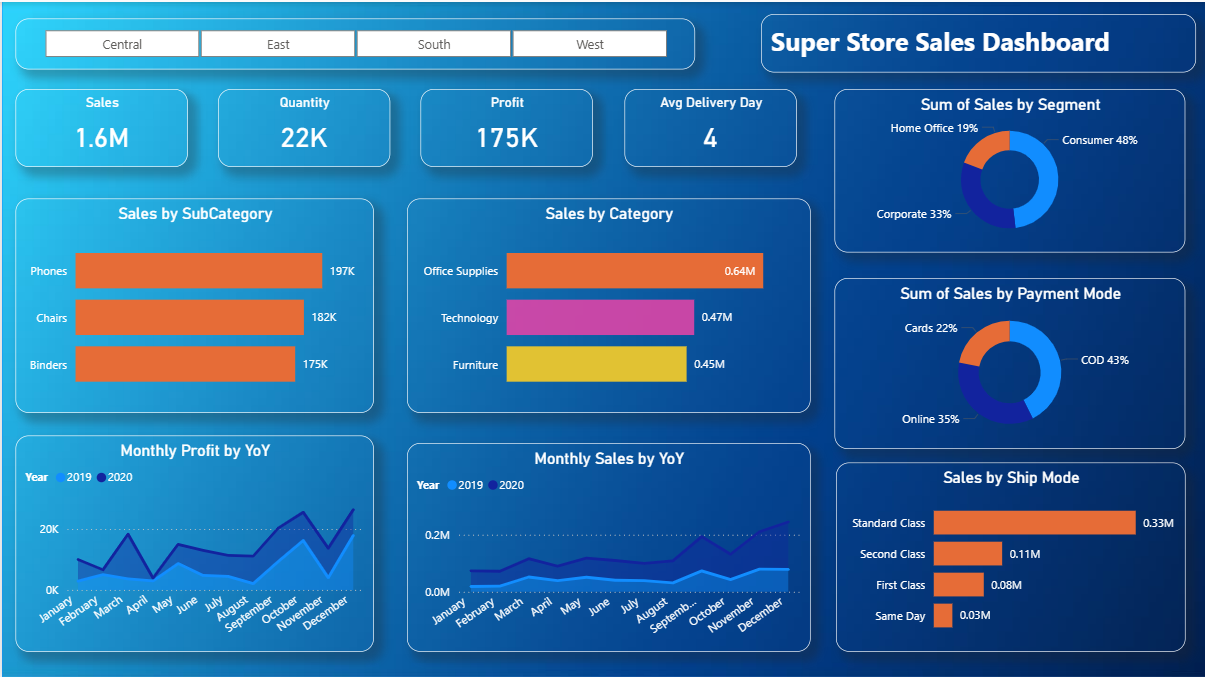

Layout of this report page (visuals, bound fields, positions):
{"tool":"powerbi","page":{"name":"Page 1","canvas":[1280,720],"ordinal":0},"visuals":[{"type":"clusteredBarChart","title":"Sales by Category","fields":{"Y":["Sum(Sales_data.Sales)"],"Category":["Sales_data.Category"]},"box":[429.5,208.4,427.9,227.5],"z":0},{"type":"clusteredBarChart","title":"Sales by SubCategory","fields":{"Y":["Sum(Sales_data.Sales)"],"Category":["Sales_data.Sub-Category"]},"box":[14.3,208.4,380.2,227.5],"z":1000},{"type":"clusteredBarChart","title":"Sales by Ship Mode","fields":{"Y":["Sum(Sales_data.Sales)"],"Category":["Sales_data.Ship Mode"]},"box":[884.4,488.3,370.6,200.4],"z":2000},{"type":"stackedAreaChart","title":" Monthly Sales by YoY","fields":{"Y":["Sum(Sales_data.Sales)"],"Category":["Sales_data.Order Date.Variation.Date Hierarchy.Month","Sales_data.Order Date.Variation.Date Hierarchy.Day"],"Series":["Sales_data.Order Date.Variation.Date Hierarchy.Year"]},"box":[429.5,467.6,427.9,221.1],"z":2001},{"type":"stackedAreaChart","title":" Monthly Profit by YoY","fields":{"Category":["Sales_data.Order Date.Variation.Date Hierarchy.Month","Sales_data.Order Date.Variation.Date Hierarchy.Day"],"Series":["Sales_data.Order Date.Variation.Date Hierarchy.Year"],"Y":["Sum(Sales_data.Profit)"]},"box":[14.3,459.7,380.2,229],"z":2002},{"type":"donutChart","fields":{"Category":["Sales_data.Segment"],"Y":["Sum(Sales_data.Sales)"]},"box":[882.8,92.3,372.2,173.4],"z":2003},{"type":"donutChart","fields":{"Y":["Sum(Sales_data.Sales)"],"Category":["Sales_data.Payment Mode"]},"box":[882.8,292.7,372.2,181.3],"z":2004},{"type":"slicer","fields":{"Values":["Sales_data.Region"]},"box":[14.3,17.5,720.5,54.1],"z":2005},{"type":"textbox","box":[804.8,12.7,461.3,62],"z":2006},{"type":"card","title":"Sales","fields":{"Values":["Sum(Sales_data.Sales)"]},"box":[14.3,92.3,182.9,82.7],"z":2007},{"type":"card","title":"Quantity","fields":{"Values":["Sum(Sales_data.Quantity)"]},"box":[229,92.3,182.9,82.7],"z":2008},{"type":"card","title":"Profit","fields":{"Values":["Sum(Sales_data.Profit)"]},"box":[443.8,92.3,182.9,82.7],"z":2009},{"type":"card","title":"Avg Delivery Day","fields":{"Values":["Avg(Sales_data.Avg Delivery)"]},"box":[660.1,92.3,182.9,82.7],"z":2010}]}

Visuals, with their boxes in screenshot pixels (x1, y1, x2, y2), scaled from the page's 1280x720 canvas onto the 1205x677 screenshot:
"Sales by Category" clusteredBarChart: [left=404, top=196, right=807, bottom=410]
"Sales by SubCategory" clusteredBarChart: [left=13, top=196, right=371, bottom=410]
"Sales by Ship Mode" clusteredBarChart: [left=833, top=459, right=1181, bottom=648]
" Monthly Sales by YoY" stackedAreaChart: [left=404, top=440, right=807, bottom=648]
" Monthly Profit by YoY" stackedAreaChart: [left=13, top=432, right=371, bottom=648]
donutChart - Sales_data.Segment x Sum(Sales_data.Sales): [left=831, top=87, right=1181, bottom=250]
donutChart - Sum(Sales_data.Sales) x Sales_data.Payment Mode: [left=831, top=275, right=1181, bottom=446]
slicer - Sales_data.Region: [left=13, top=16, right=692, bottom=67]
textbox: [left=758, top=12, right=1192, bottom=70]
"Sales" card: [left=13, top=87, right=186, bottom=165]
"Quantity" card: [left=216, top=87, right=388, bottom=165]
"Profit" card: [left=418, top=87, right=590, bottom=165]
"Avg Delivery Day" card: [left=621, top=87, right=794, bottom=165]
